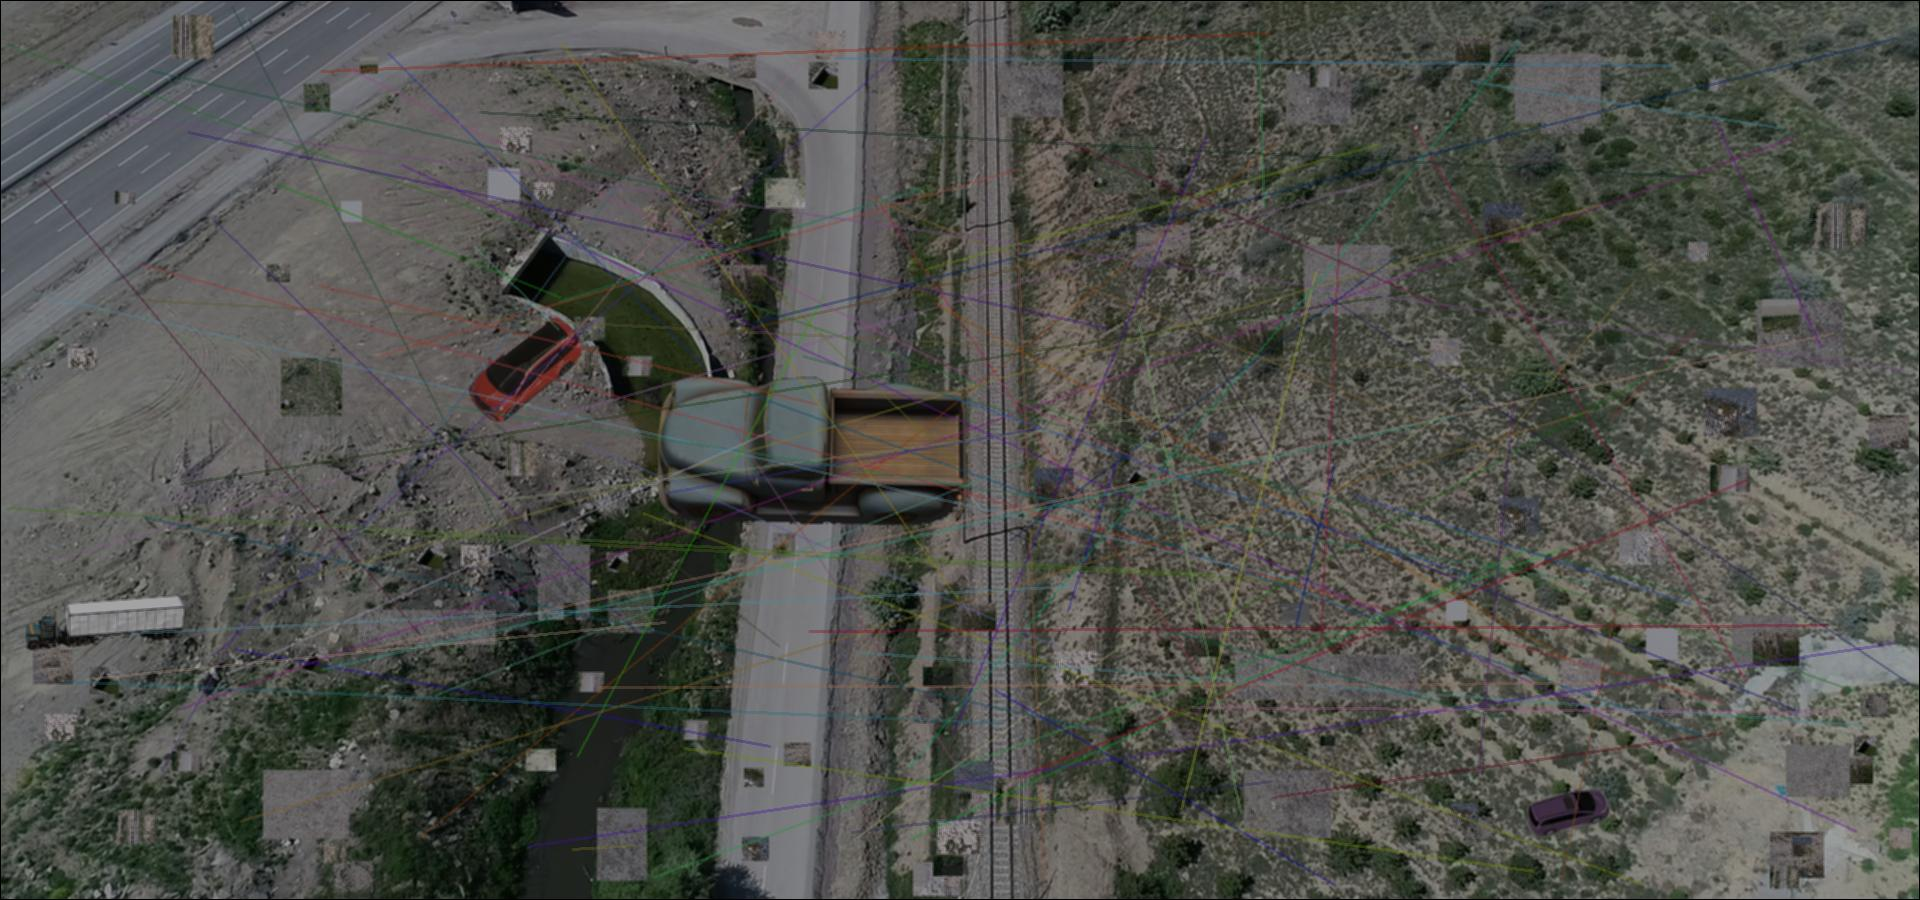arac: (658, 366, 970, 525), (453, 318, 583, 422), (26, 591, 185, 650), (1524, 790, 1611, 838)
